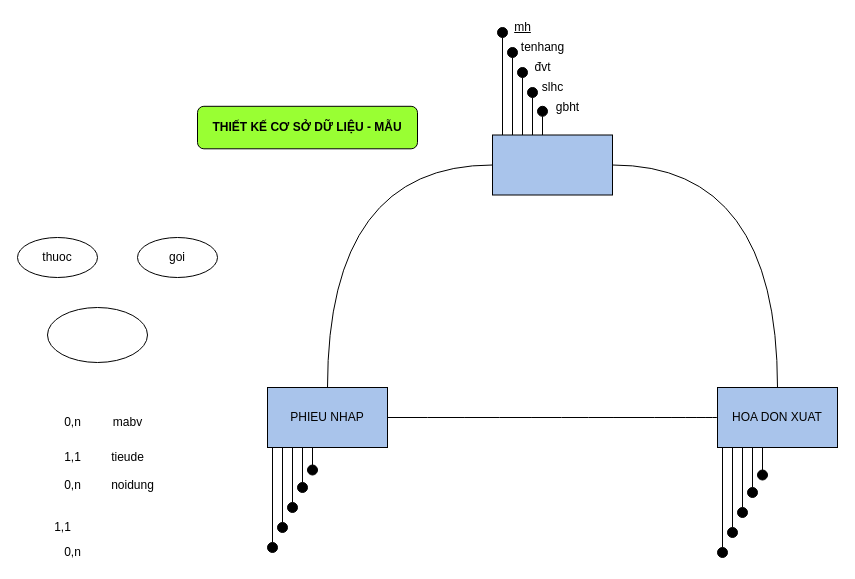
The diagram is 855 pixels wide and 579 high, and some of its shapes have lost their labels. The box of each missing label's shape, as (x1, y1, x2, y2) in pixels:
MAT HANG: (492, 134, 612, 195)
thao luan: (46, 306, 148, 362)
